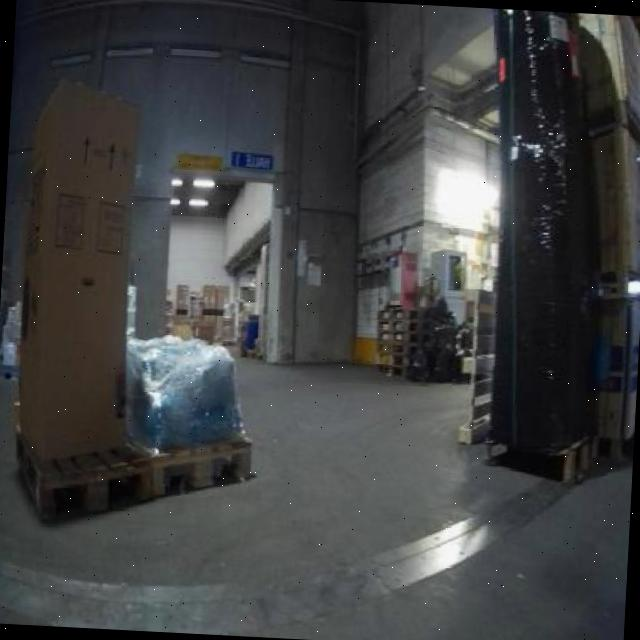pallet: (8, 448, 158, 542), (134, 423, 266, 508), (368, 299, 446, 325), (368, 360, 433, 386), (370, 336, 444, 358), (371, 319, 442, 340)
